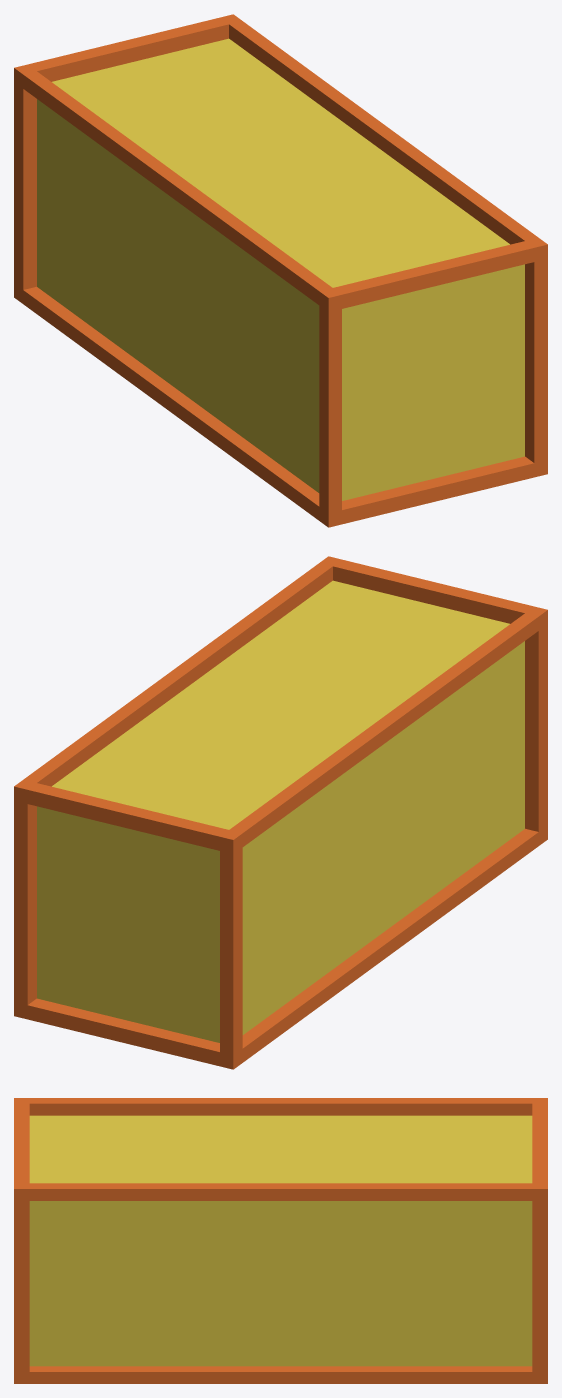
Rendered from shippingcrate.fbx.
3 views of the same model, one above another, from view 1: azimuth 30°, elevation 25°; view 2: azimuth 150°, elevation 25°; view 3: azimuth 270°, elevation 25° (orthographic). The views are drawn at different scales.
Parts seen in each view (by area): view 1: Cube; view 2: Cube; view 3: Cube.
Boxes of the visible parts, x1,y1,x2,y2 form: Cube: (14, 14, 547, 527); Cube: (14, 556, 547, 1069); Cube: (14, 1098, 547, 1383).
Bounding box in the file's own units: 685 × 685 × 1700.
